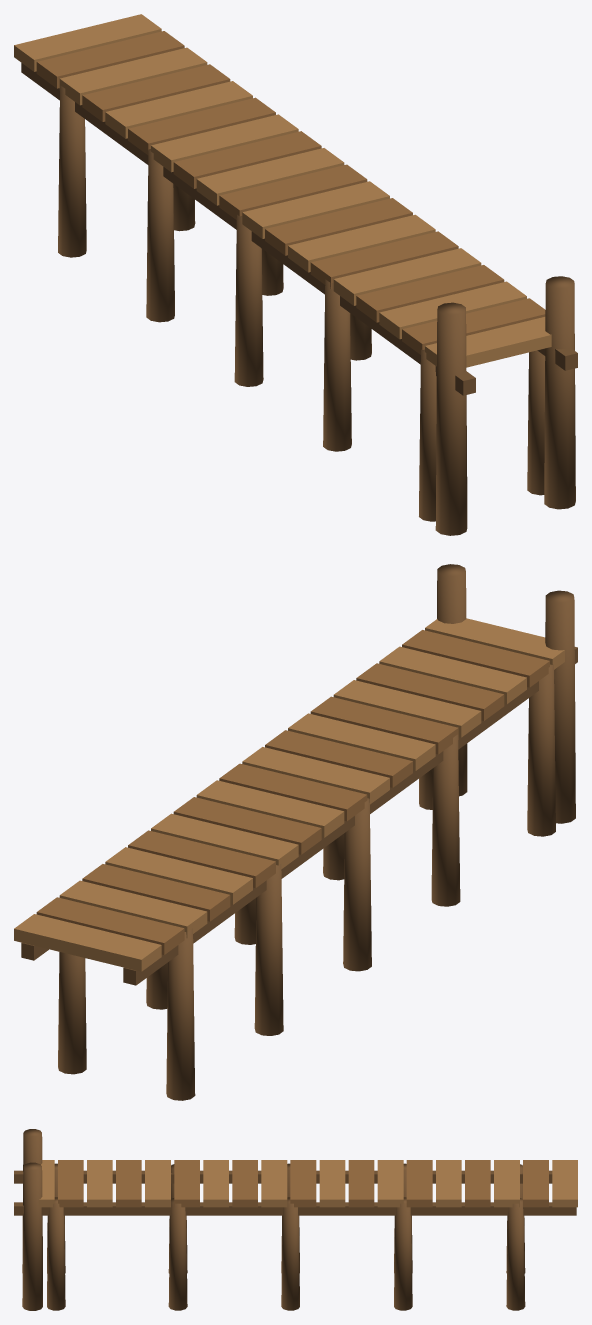
File: xy_landmark_pier.glb
3 views of the same model, one above another, from view 1: azimuth 30°, elevation 25°; view 2: azimuth 150°, elevation 25°; view 3: azimuth 270°, elevation 25° (orthographic). The views are drawn at different scales.
Visible parts, largest first — view 1: xy_landmark_pier; view 2: xy_landmark_pier; view 3: xy_landmark_pier.
Part boxes in pixels (left/top/right/bottom): xy_landmark_pier: left=14, top=14, right=577, bottom=535; xy_landmark_pier: left=14, top=564, right=577, bottom=1100; xy_landmark_pier: left=14, top=1129, right=577, bottom=1310.
Bounding box in the file's own units: 2.12 × 3.3 × 12.03.
